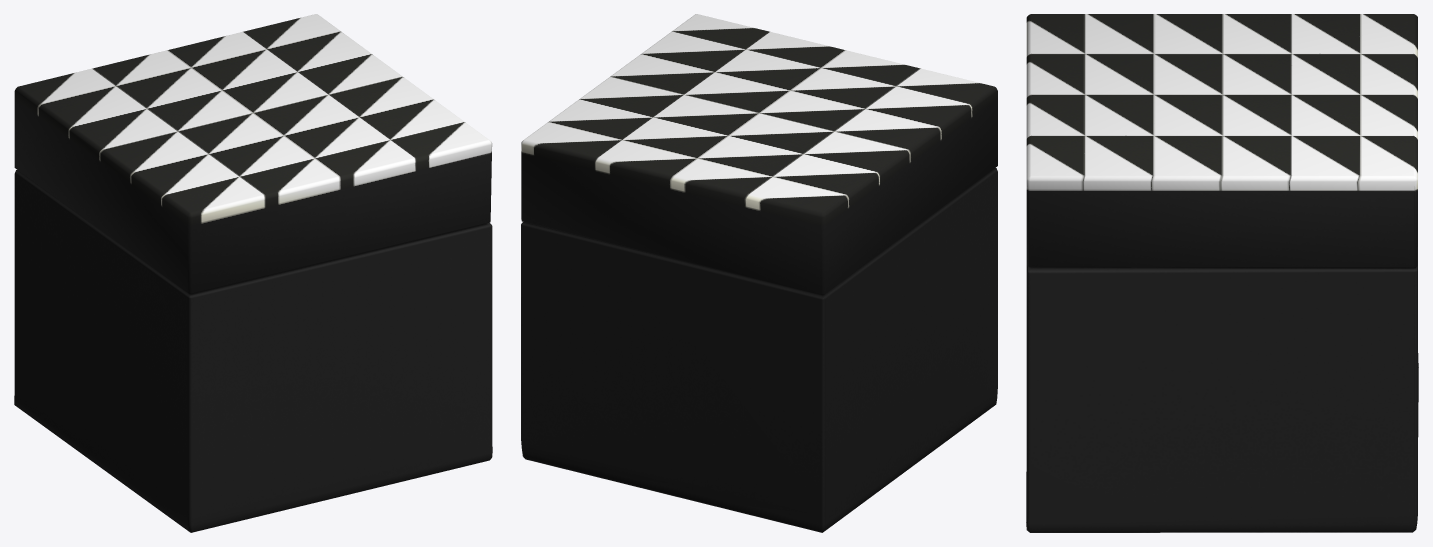
The picture shows the model from 3 angles, left to right: view 1: azimuth 30°, elevation 25°; view 2: azimuth 150°, elevation 25°; view 3: azimuth 270°, elevation 25°; orthographic projection. The views are drawn at different scales.
Visible parts, largest first — view 1: BLACK, PATTERN; view 2: BLACK, PATTERN; view 3: BLACK, PATTERN.
Part boxes in pixels (x1,y1,x2,y2): BLACK: (14,99,492,532); PATTERN: (14,14,492,225); BLACK: (521,98,997,532); PATTERN: (521,14,997,225); BLACK: (1026,189,1418,532); PATTERN: (1026,14,1417,190).
Size of what is drawn, in the model's own units: 11.01 by 11.06 by 11.03.
2 materials, 2 textured.
